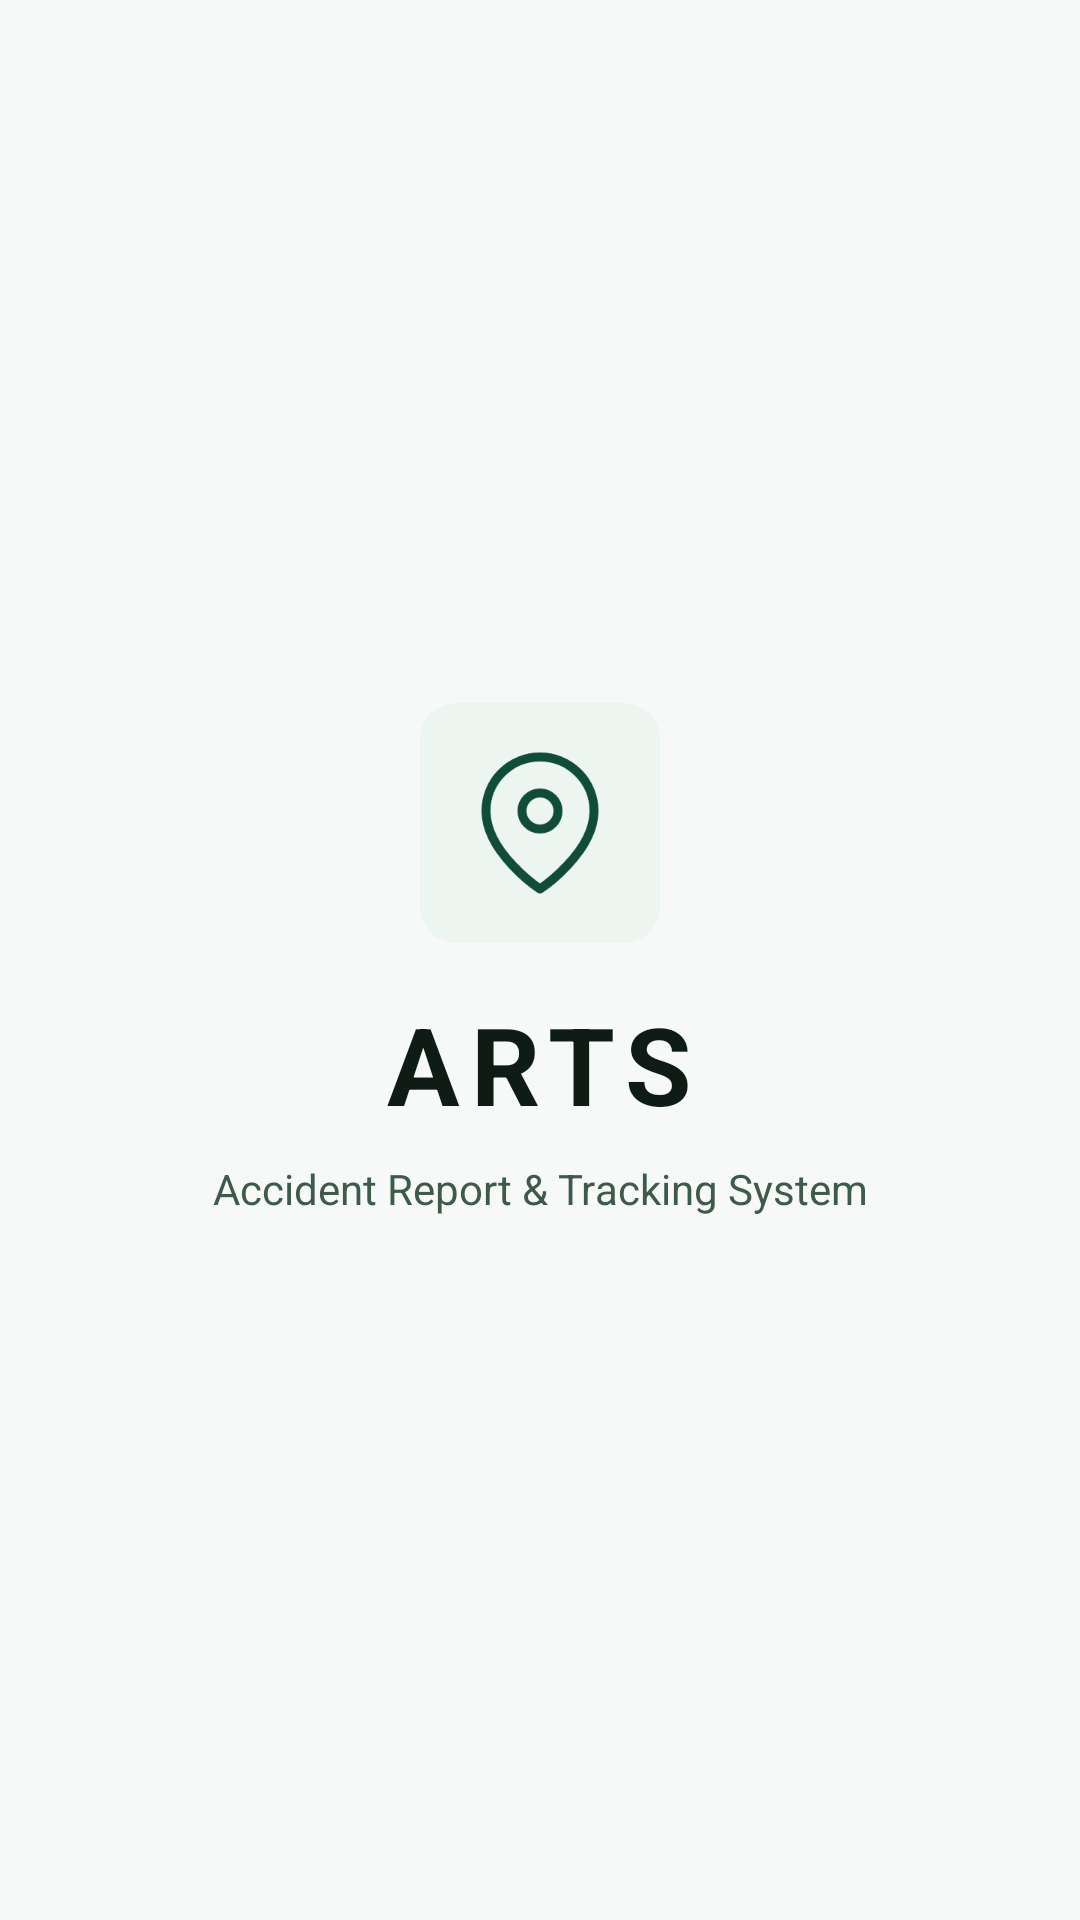

Icon click points for this 1080*1920 phone screenshot, format (x,y):
location: (540,823)
